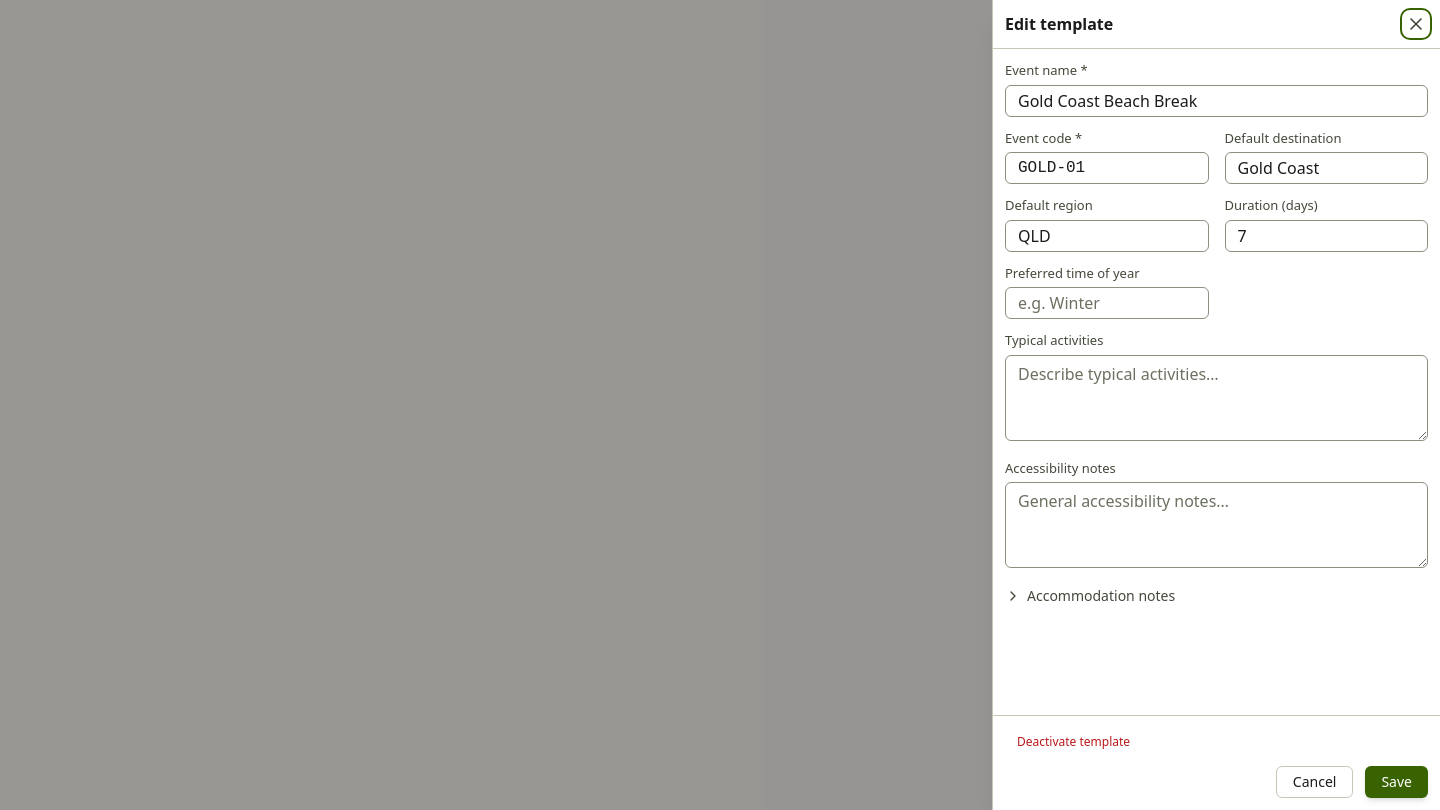
it: TemplateFormPanel as a dialog › an edit sends the template's own isActive, not true
Type " 2" into the field labelled "Event name *" at (1216,100), box [1005, 84, 1428, 116]
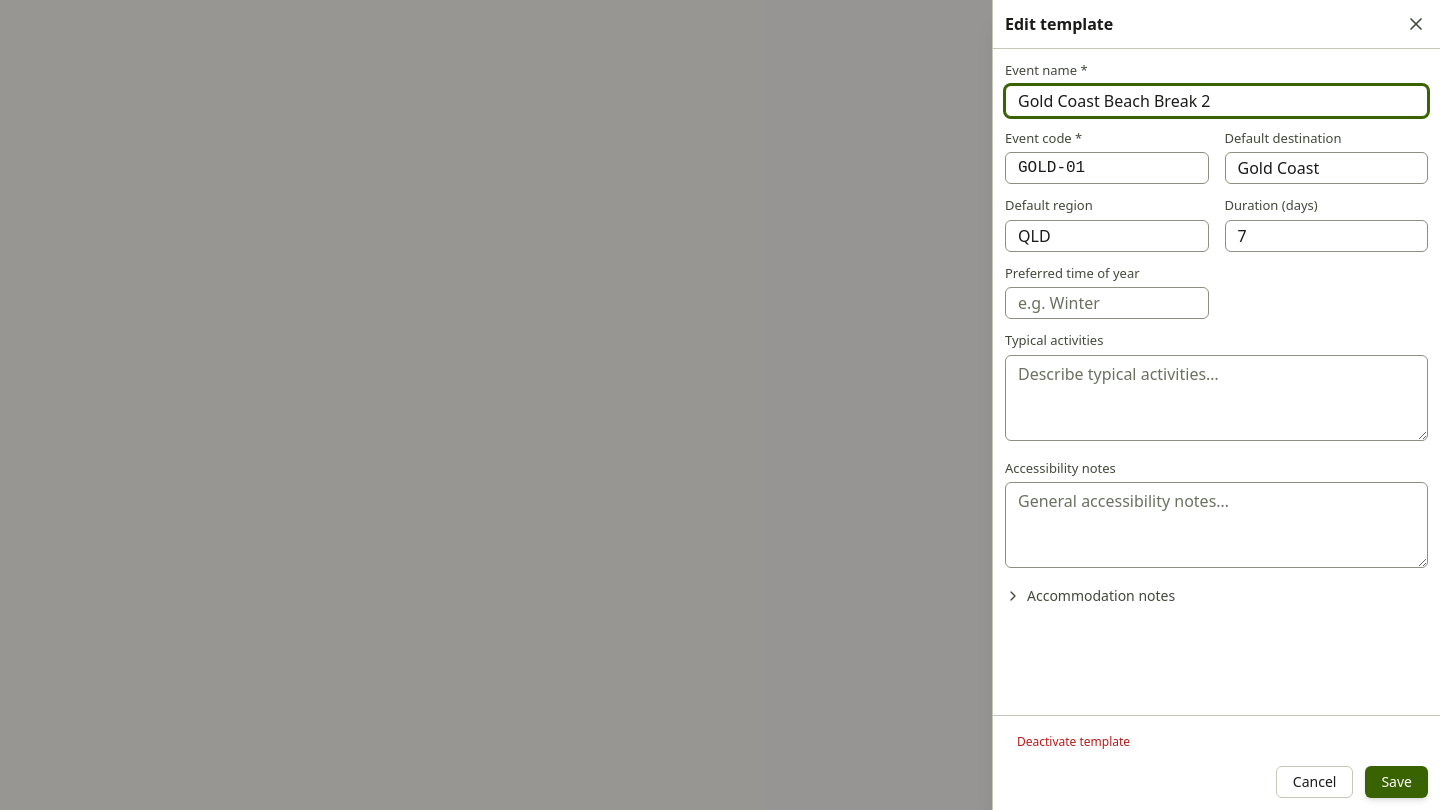
Click the button "Save" at (1397,782), box [1365, 766, 1428, 798]
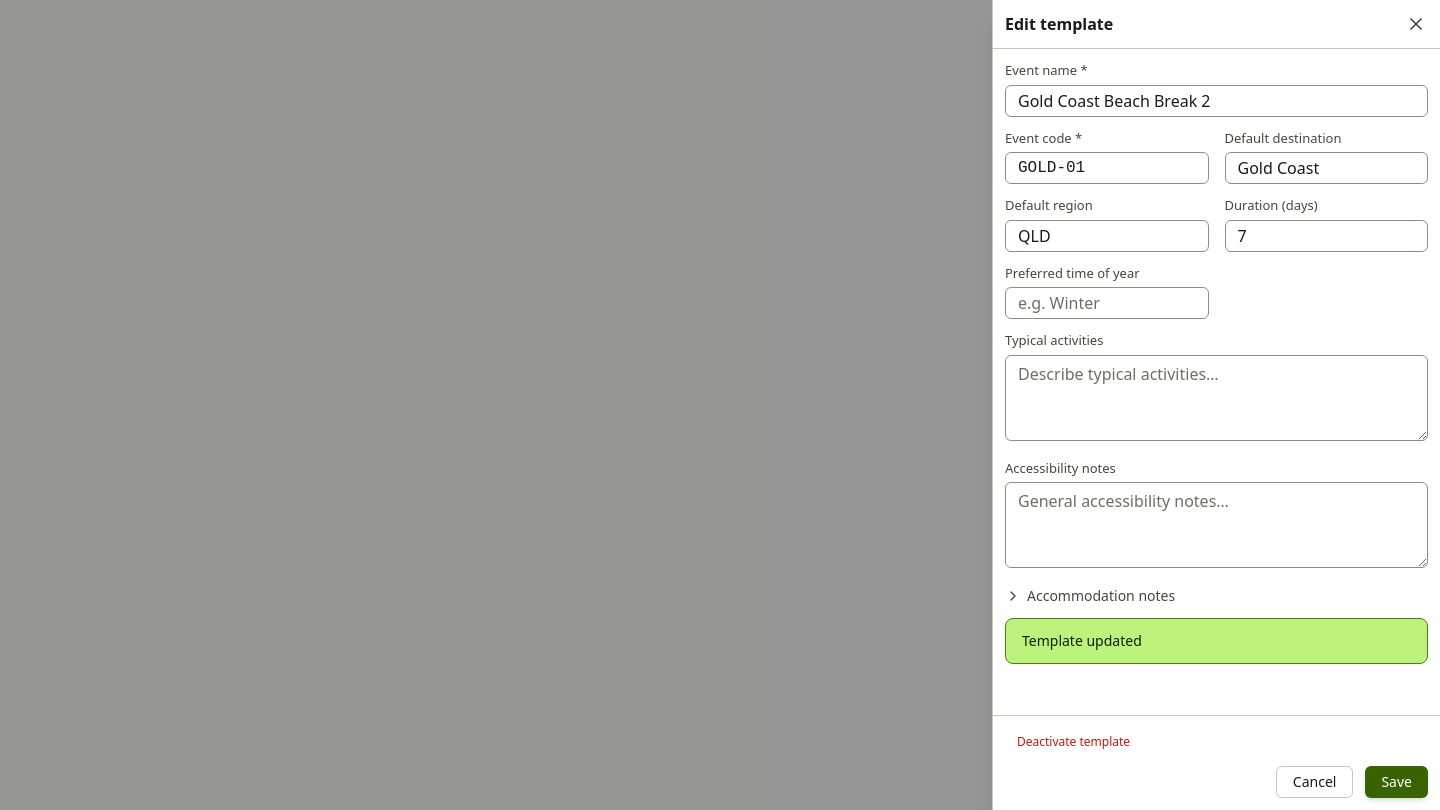
expect the text "Template updated" is shown: met, box [1005, 618, 1428, 664]
